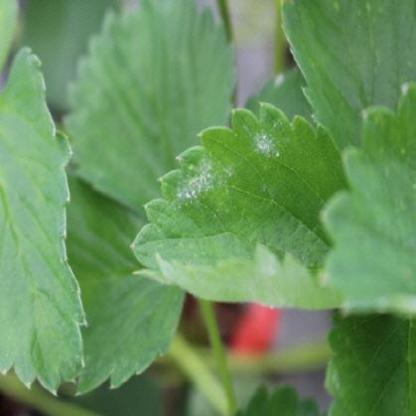Strawberry_Powdery_Mildew_Leaf: (129, 102, 350, 312)
